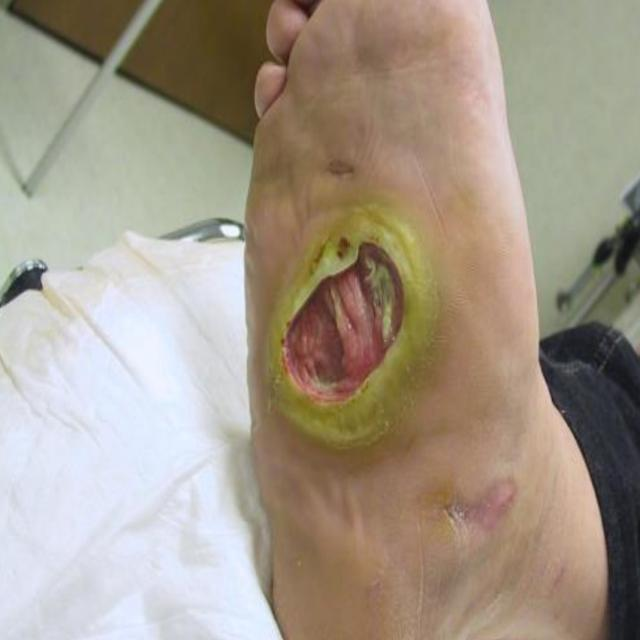stage-4: (284, 243, 404, 401)
